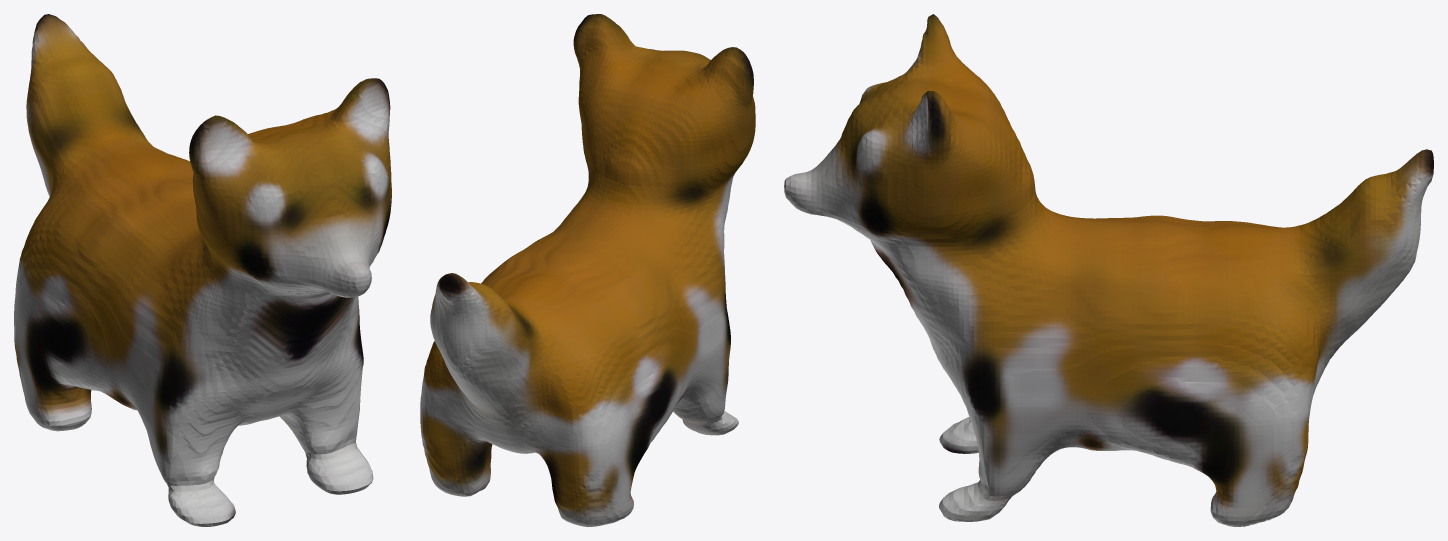
The model's file is corgi.glb.
3 views of the same model, side by side, from view 1: azimuth 30°, elevation 25°; view 2: azimuth 150°, elevation 25°; view 3: azimuth 270°, elevation 25° (orthographic). The views are drawn at different scales.
Visible parts, largest first — view 1: corgi.ply; view 2: corgi.ply; view 3: corgi.ply.
Part boxes in pixels (x1=…): corgi.ply: x1=14, y1=14, x2=391, y2=526; corgi.ply: x1=420, y1=14, x2=755, y2=526; corgi.ply: x1=784, y1=14, x2=1433, y2=526.
Bounding box in the file's own units: 0.8146 × 1.44 × 1.98.
